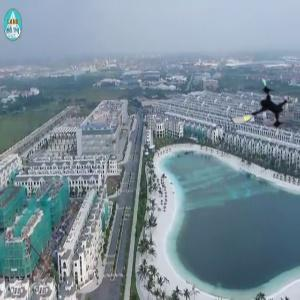drone: (229, 76, 296, 143)
